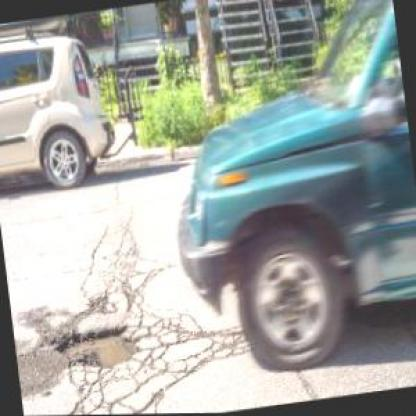pothole: (51, 322, 139, 373)
